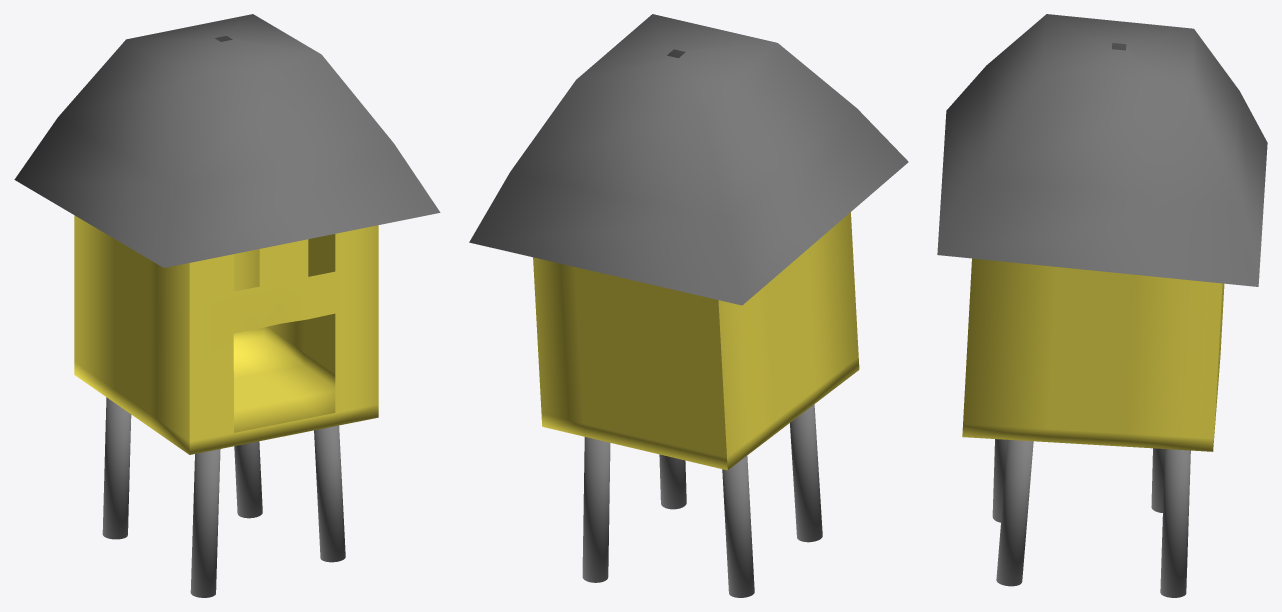
The model's file is Phantom_house.fbx.
3 renders of one model, left to right at view 1: azimuth 30°, elevation 25°; view 2: azimuth 150°, elevation 25°; view 3: azimuth 270°, elevation 25°, orthographic. The views are drawn at different scales.
Parts seen in each view (by area): view 1: s.0044, s.0022, p.0045, p.0041, p.0043, p.0040; view 2: s.0044, s.0022, p.0040, p.0043, p.0045, p.0041; view 3: s.0044, s.0022, p.0040, p.0041, p.0045, p.0043.
Part boxes in pixels (x1,y1,x2,y2): s.0044: [14, 14, 440, 267]; s.0022: [74, 215, 378, 454]; p.0045: [190, 449, 220, 597]; p.0041: [314, 425, 345, 562]; p.0043: [102, 397, 131, 539]; p.0040: [234, 441, 262, 518]; s.0044: [469, 14, 908, 305]; s.0022: [533, 212, 859, 470]; p.0040: [582, 437, 610, 582]; p.0043: [722, 456, 754, 597]; p.0045: [790, 404, 822, 542]; p.0041: [659, 454, 686, 509]; s.0044: [937, 14, 1267, 286]; s.0022: [962, 258, 1224, 451]; p.0040: [1160, 449, 1190, 597]; p.0041: [996, 440, 1033, 586]; p.0045: [992, 439, 1007, 522]; p.0043: [1151, 448, 1164, 512].
Bounding box in the file's own units: 60.77 × 60.67 × 106.
